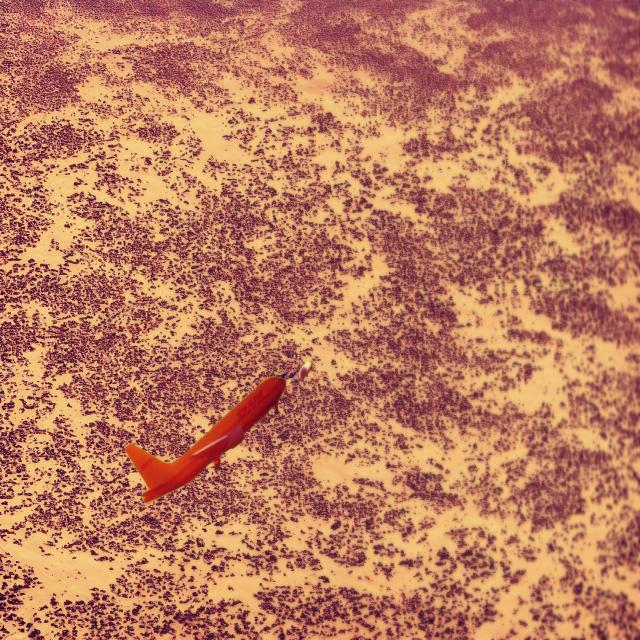airplane: (126, 373, 288, 505)
